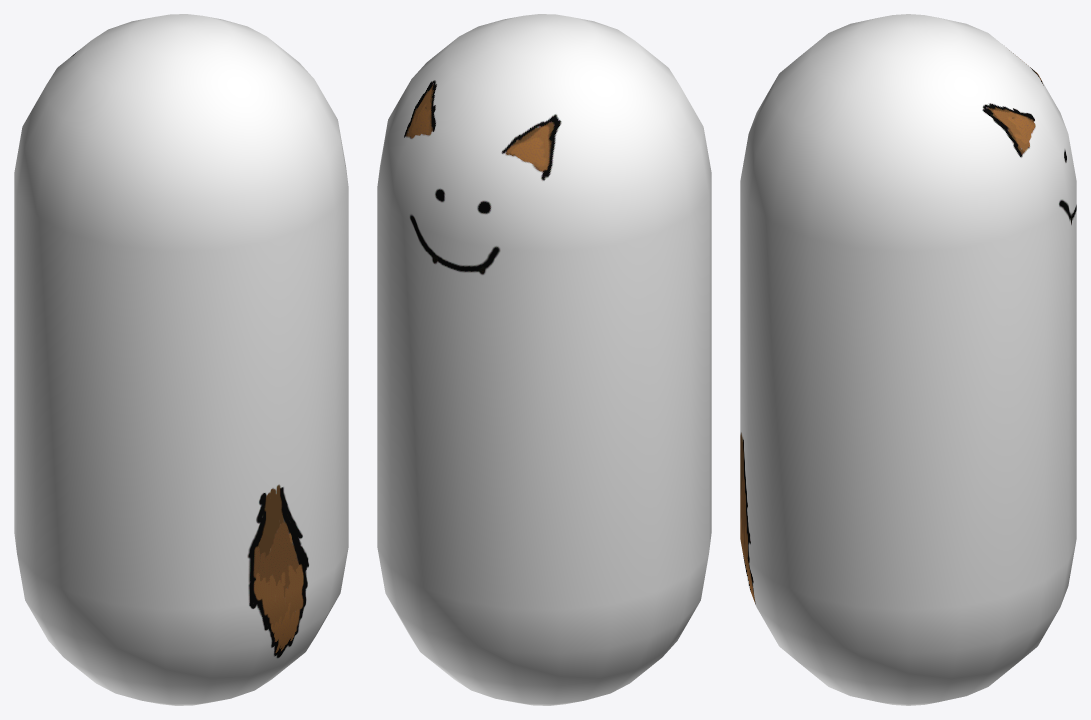
File: werewolf.min.glb
3 renders of one model, left to right at view 1: azimuth 30°, elevation 25°; view 2: azimuth 150°, elevation 25°; view 3: azimuth 270°, elevation 25°, orthographic.
Parts seen in each view (by area): view 1: werewolf; view 2: werewolf; view 3: werewolf.
Boxes of the visible parts, <box> form: werewolf: <box>14,14,348,705</box>; werewolf: <box>377,14,711,705</box>; werewolf: <box>740,14,1076,705</box>.
Size of the model in its own units: 0.4634 by 1.01 by 0.4634.
1 material, 1 textured.
